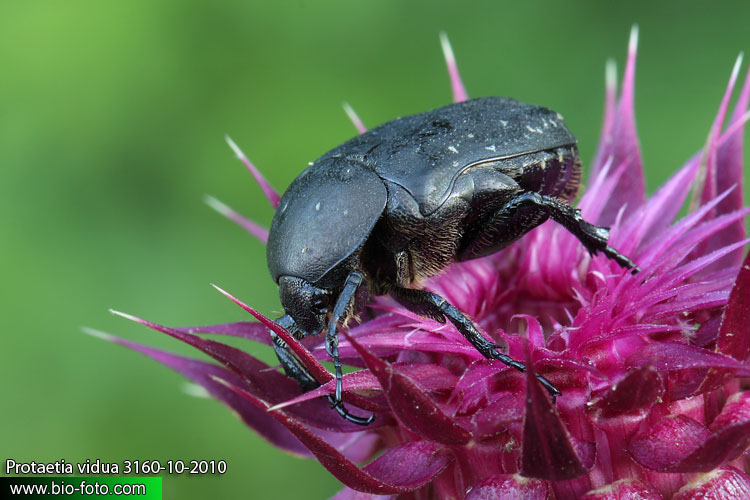Protaetia_vidua: (264, 91, 640, 423)
